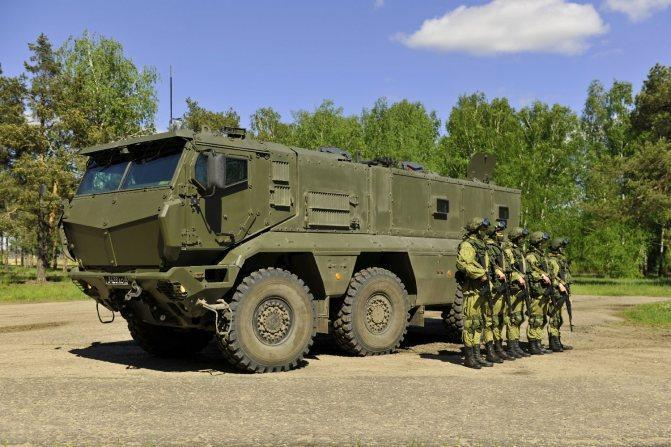person: (452, 215, 492, 373), (485, 215, 510, 368), (526, 218, 547, 362), (508, 219, 528, 364), (549, 220, 569, 358)
truck: (71, 108, 547, 366)
